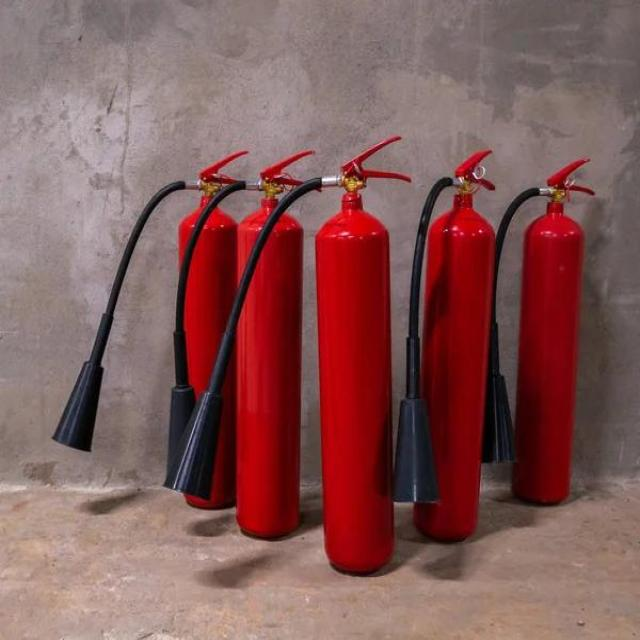fire_extinguisher: (157, 132, 414, 579), (47, 142, 254, 515), (162, 146, 325, 540), (388, 144, 500, 546), (477, 152, 600, 512)
